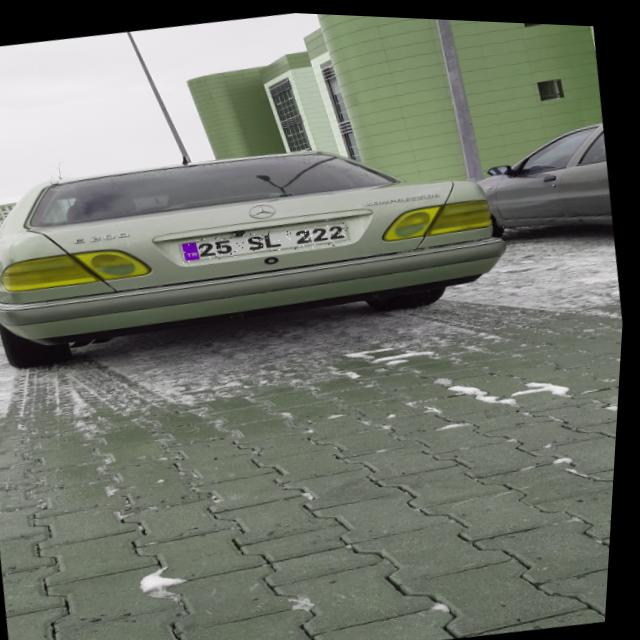license_plate: (183, 213, 353, 267)
